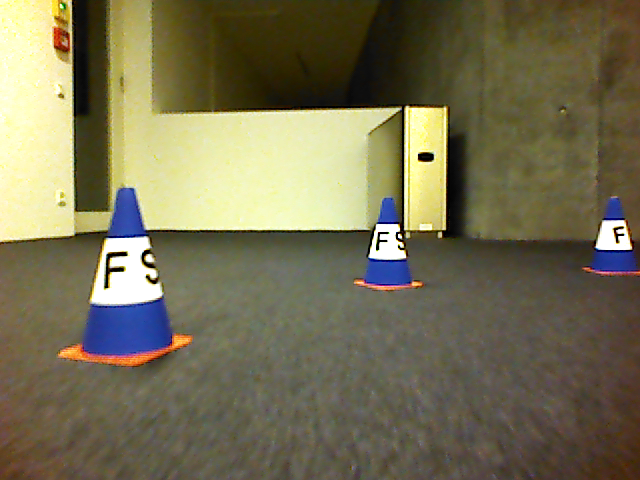bluecone: (58, 186, 195, 368), (351, 196, 424, 292), (584, 196, 639, 276)
